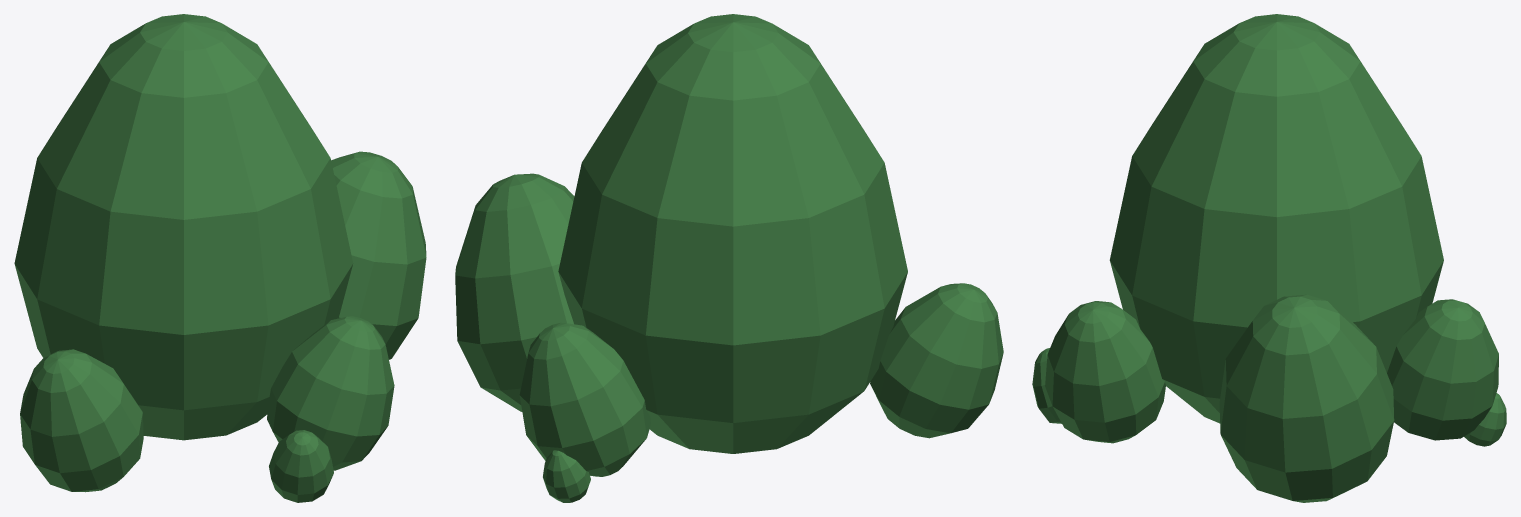
Rendered from spider nest.fbx.
The picture shows the model from 3 angles, left to right: view 1: azimuth 30°, elevation 25°; view 2: azimuth 150°, elevation 25°; view 3: azimuth 270°, elevation 25°; orthographic projection. The views are drawn at different scales.
Visible parts, largest first — view 1: pSphere20; view 2: pSphere20; view 3: pSphere20.
Part boxes in pixels (x1,y1,x2,y2): pSphere20: (14,14,426,502); pSphere20: (455,14,1003,502); pSphere20: (1032,14,1506,502).
Bounding box in the file's own units: 5.85 × 5 × 5.4.
